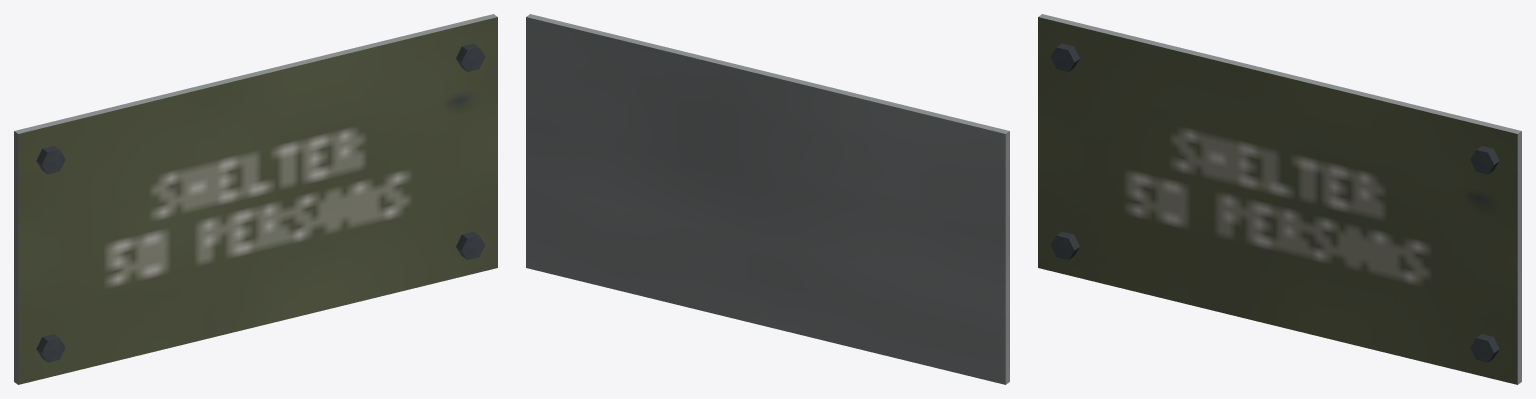
Rendered from sign_bunker_shelter.glb.
The picture shows the model from 3 angles, left to right: view 1: azimuth 30°, elevation 25°; view 2: azimuth 150°, elevation 25°; view 3: azimuth 330°, elevation 25°; orthographic projection.
Visible parts, largest first — view 1: sign_bunker_shelter; view 2: sign_bunker_shelter; view 3: sign_bunker_shelter.
Boxes of the visible parts, x1=… form: sign_bunker_shelter: x1=14, y1=14, x2=497, y2=384; sign_bunker_shelter: x1=526, y1=14, x2=1009, y2=384; sign_bunker_shelter: x1=1038, y1=14, x2=1521, y2=384.
Bounding box in the file's own units: 0.4 × 0.2 × 0.014.
1 material, 1 textured.
